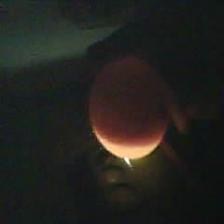fertile: (86, 47, 172, 164)
